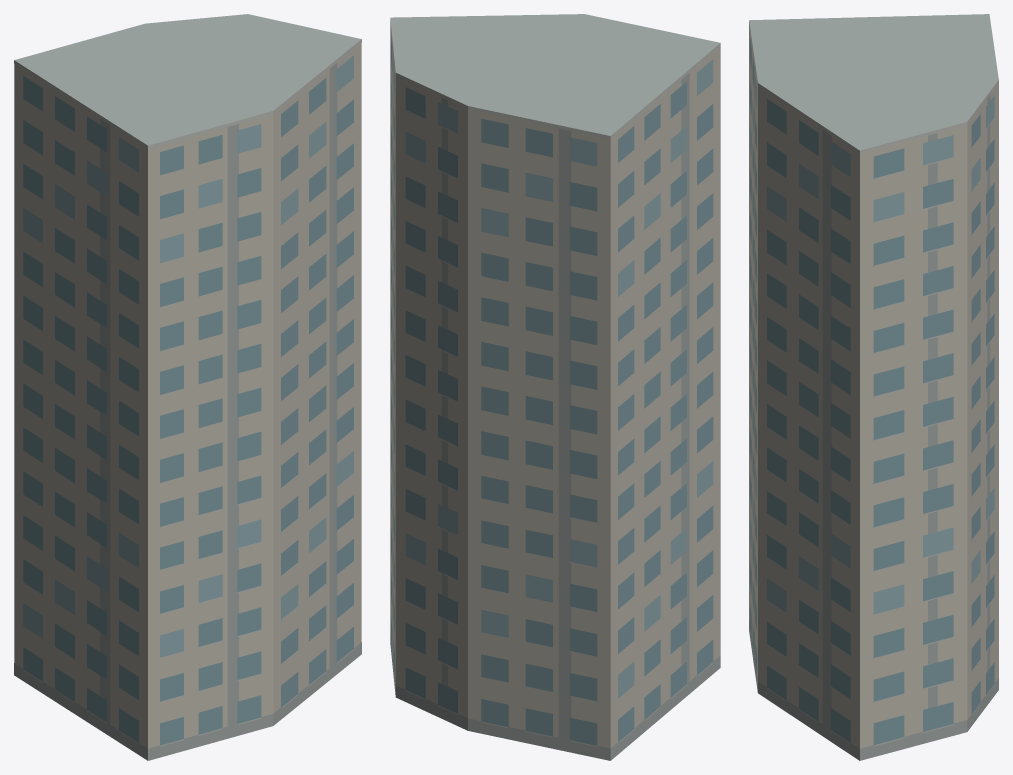
The model's file is residential-ccade9d7-c96c-4dd7-982d-3cbd7f7a829c.glb.
3 renders of one model, left to right at view 1: azimuth 30°, elevation 25°; view 2: azimuth 150°, elevation 25°; view 3: azimuth 270°, elevation 25°, orthographic. The views are drawn at different scales.
Parts seen in each view (by area): view 1: residential-ccade9d7-c96c-4dd7-982d-3cbd7f7a829c.tmp; view 2: residential-ccade9d7-c96c-4dd7-982d-3cbd7f7a829c.tmp; view 3: residential-ccade9d7-c96c-4dd7-982d-3cbd7f7a829c.tmp.
Boxes of the visible parts, x1,y1,x2,y2 form: residential-ccade9d7-c96c-4dd7-982d-3cbd7f7a829c.tmp: [14, 14, 361, 760]; residential-ccade9d7-c96c-4dd7-982d-3cbd7f7a829c.tmp: [390, 14, 720, 760]; residential-ccade9d7-c96c-4dd7-982d-3cbd7f7a829c.tmp: [749, 14, 998, 760].
Size of the model in its own units: 21.13 by 44 by 16.33.
